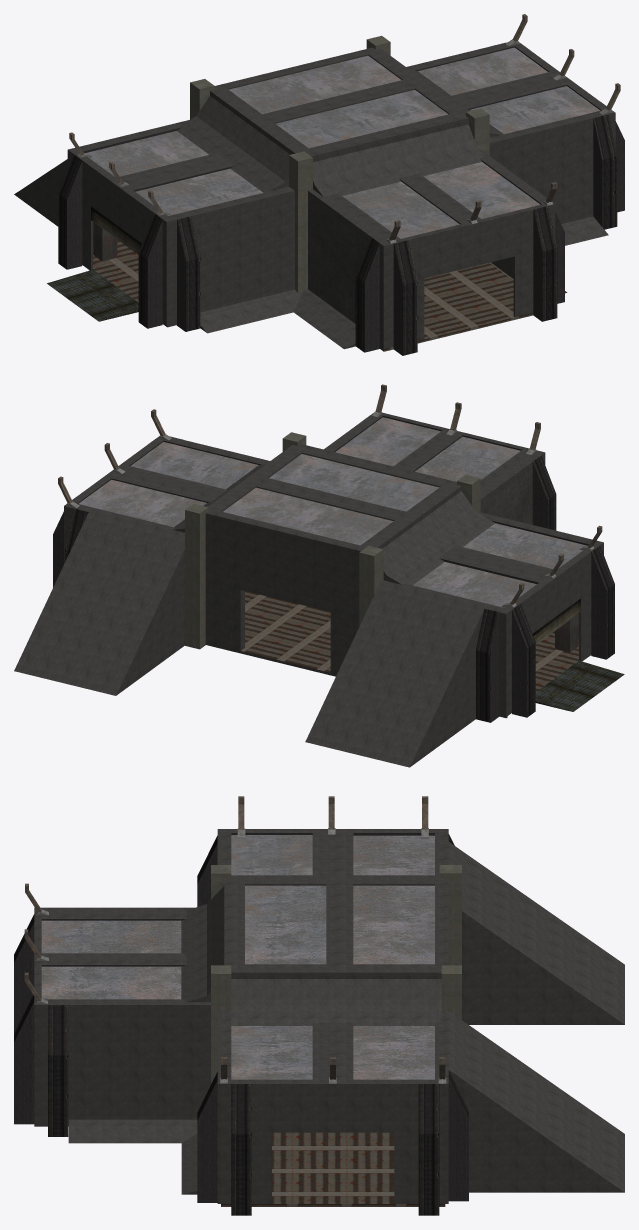
The model's file is hollowroom.fbx.
3 renders of one model, top to bottom at view 1: azimuth 30°, elevation 25°; view 2: azimuth 150°, elevation 25°; view 3: azimuth 270°, elevation 25°, orthographic. The views are drawn at different scales.
Parts seen in each view (by area): view 1: Object; view 2: Object; view 3: Object.
Boxes of the visible parts, x1,y1,x2,y2 form: Object: (14,14,624,355); Object: (14,384,624,767); Object: (14,796,624,1215).
Size of the model in its own units: 20141 by 5244 by 18003.
